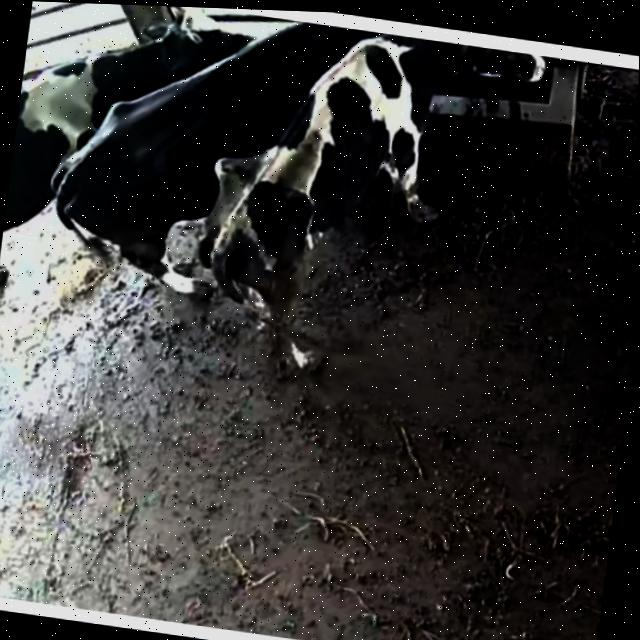drink: (375, 32, 552, 138), (265, 17, 385, 93)
